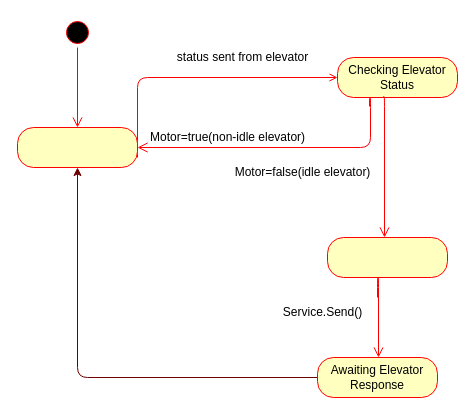
This 475x415 diagram has some shape labels left out. Here are the shapes that lost their labels. From the top down, the centre of each, then its label:
At point 77,147: "Standby".
At point 387,257: "Sending Elevator New Job".
